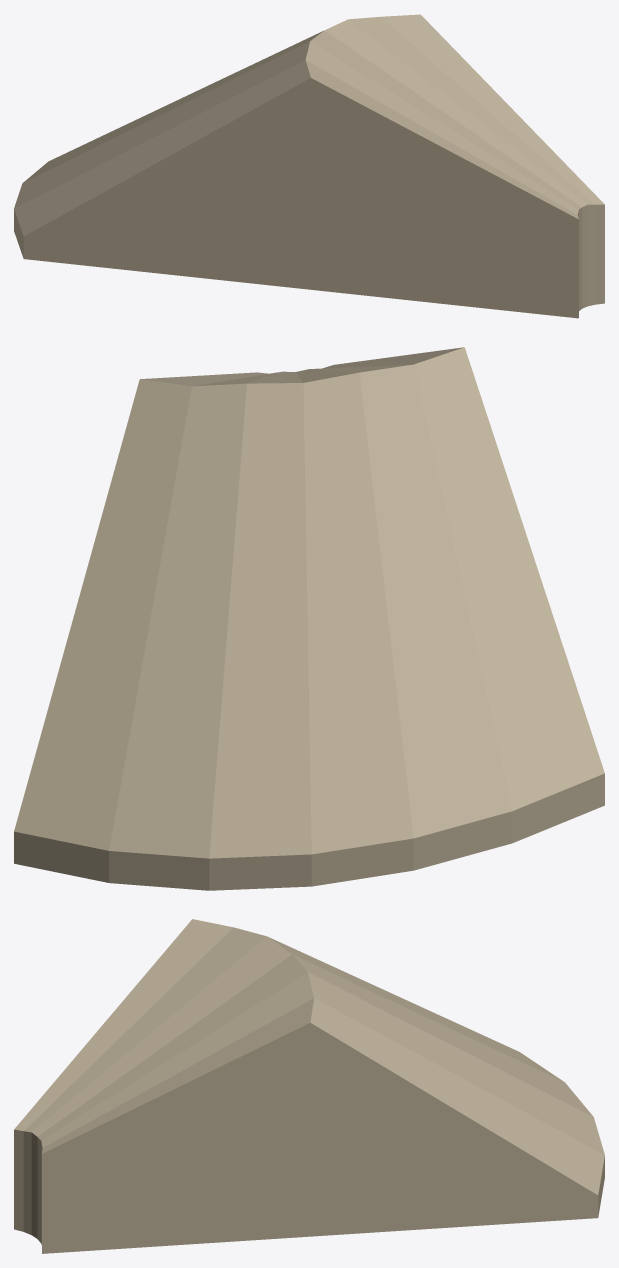
Rendered from detail_001b_ridge_shell.glb.
The picture shows the model from 3 angles, top to bottom: view 1: azimuth 30°, elevation 25°; view 2: azimuth 150°, elevation 25°; view 3: azimuth 270°, elevation 25°; orthographic projection. The views are drawn at different scales.
Parts seen in each view (by area): view 1: detail_001b_ridge_shell__mesh; view 2: detail_001b_ridge_shell__mesh; view 3: detail_001b_ridge_shell__mesh.
Part boxes in pixels (left/top/right/bottom): detail_001b_ridge_shell__mesh: left=14, top=14, right=604, bottom=318; detail_001b_ridge_shell__mesh: left=14, top=347, right=604, bottom=890; detail_001b_ridge_shell__mesh: left=14, top=919, right=604, bottom=1253.
Size of the model in its own units: 0.1154 by 0.0646 by 0.142.
